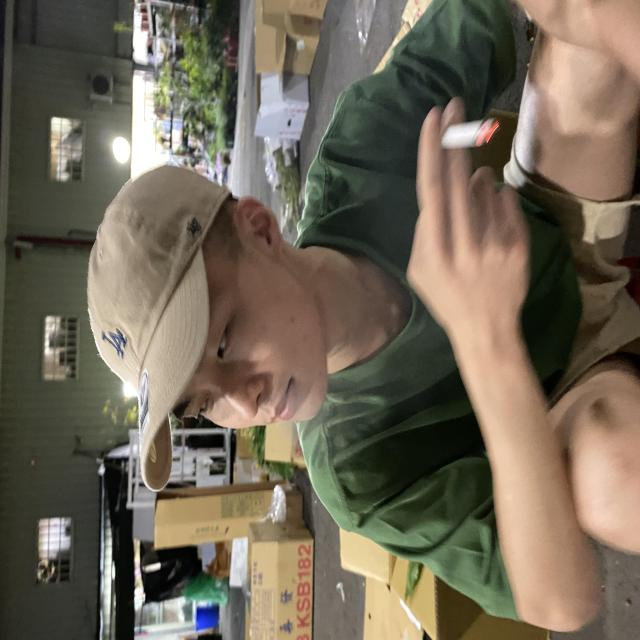cigarette: (423, 99, 513, 165)
